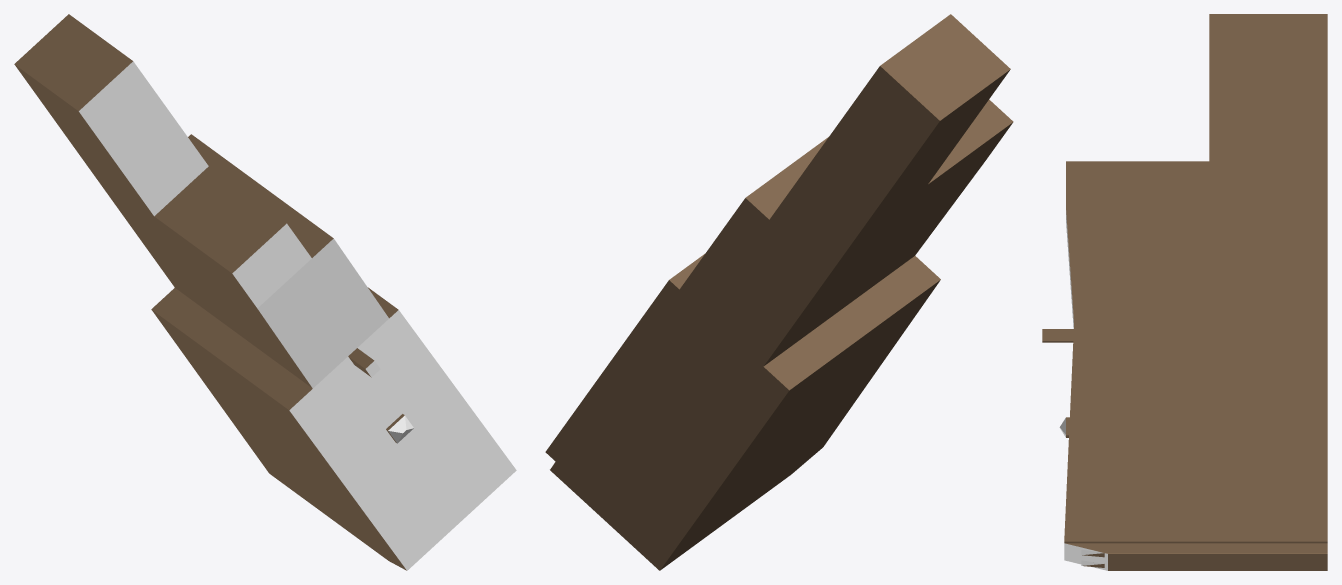
The picture shows the model from 3 angles, left to right: view 1: azimuth 30°, elevation 25°; view 2: azimuth 150°, elevation 25°; view 3: azimuth 270°, elevation 25°; orthographic projection. The views are drawn at different scales.
Parts seen in each view (by area): view 1: City_PC-08694; view 2: City_PC-08694; view 3: City_PC-08694.
Part boxes in pixels (x1,y1,x2,y2): City_PC-08694: (14, 14, 516, 570); City_PC-08694: (545, 14, 1013, 570); City_PC-08694: (1042, 14, 1327, 570).
Bounding box in the file's own units: 2074 × 2806 × 1554.
